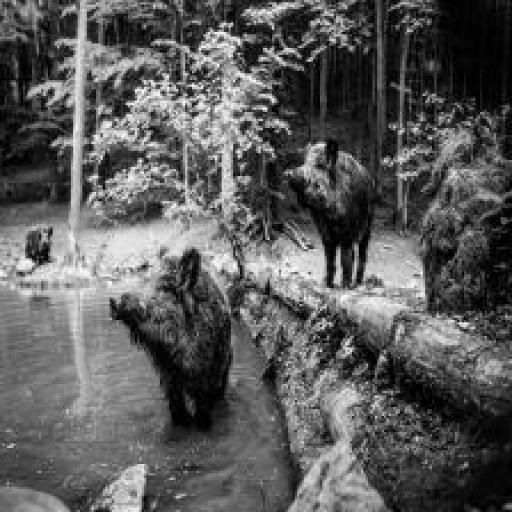Pig: (101, 240, 241, 442), (279, 123, 383, 304)
